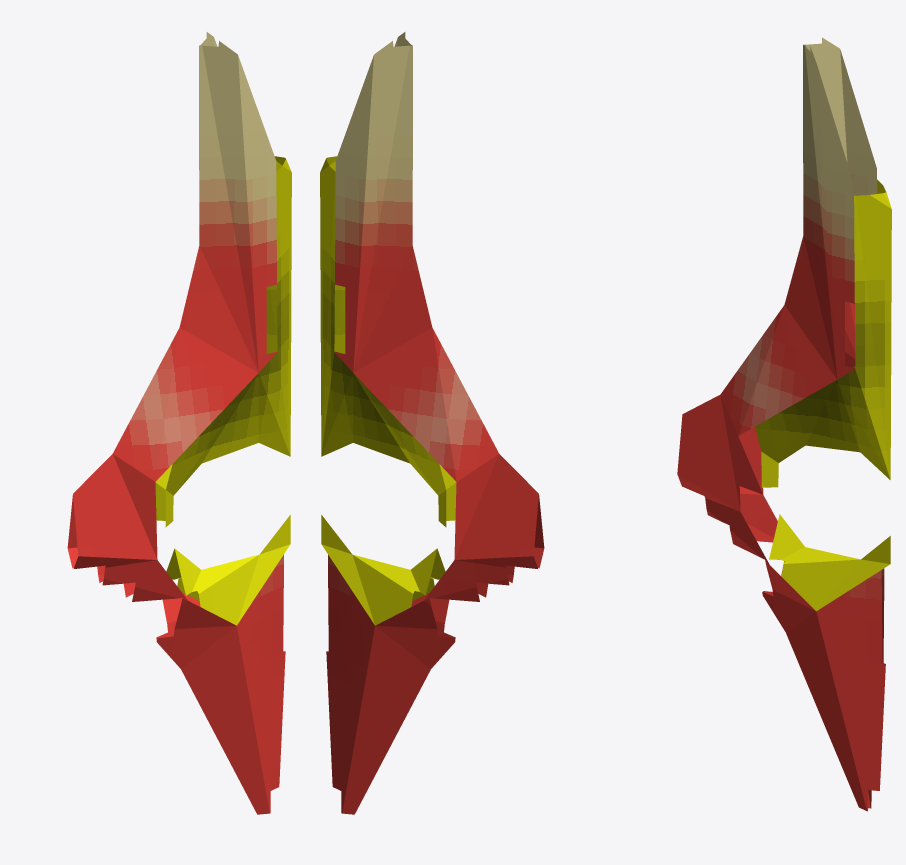
File: carmin.obj
The picture shows the model from 3 angles, left to right: view 1: azimuth 30°, elevation 25°; view 2: azimuth 150°, elevation 25°; view 3: azimuth 330°, elevation 25°; orthographic projection. The views are drawn at different scales.
Bounding box in the file's own units: 20.95 × 61.67 × 3.12.
